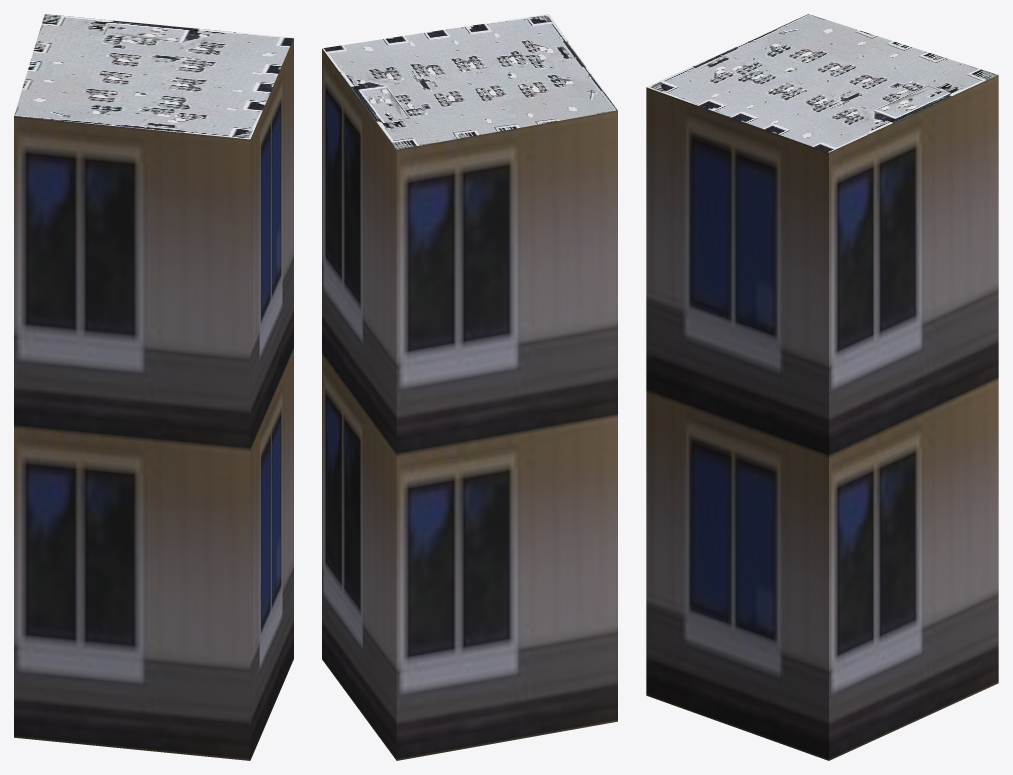
The model's file is ResTex__1347.fbx.
The picture shows the model from 3 angles, left to right: view 1: azimuth 30°, elevation 25°; view 2: azimuth 150°, elevation 25°; view 3: azimuth 270°, elevation 25°; orthographic projection. The views are drawn at different scales.
Parts seen in each view (by area): view 1: CityEngineMaterial_5_m, CityEngineMaterial_m; view 2: CityEngineMaterial_5_m, CityEngineMaterial_m; view 3: CityEngineMaterial_5_m, CityEngineMaterial_m.
Part boxes in pixels (x1,y1,x2,y2): CityEngineMaterial_5_m: (14, 38, 293, 760); CityEngineMaterial_m: (14, 14, 293, 139); CityEngineMaterial_5_m: (322, 48, 617, 760); CityEngineMaterial_m: (322, 14, 617, 149); CityEngineMaterial_5_m: (646, 75, 998, 760); CityEngineMaterial_m: (647, 14, 997, 152).
Size of the model in its own units: 2.93 by 6 by 3.15.
Materials: 2 (2 with a texture image).
